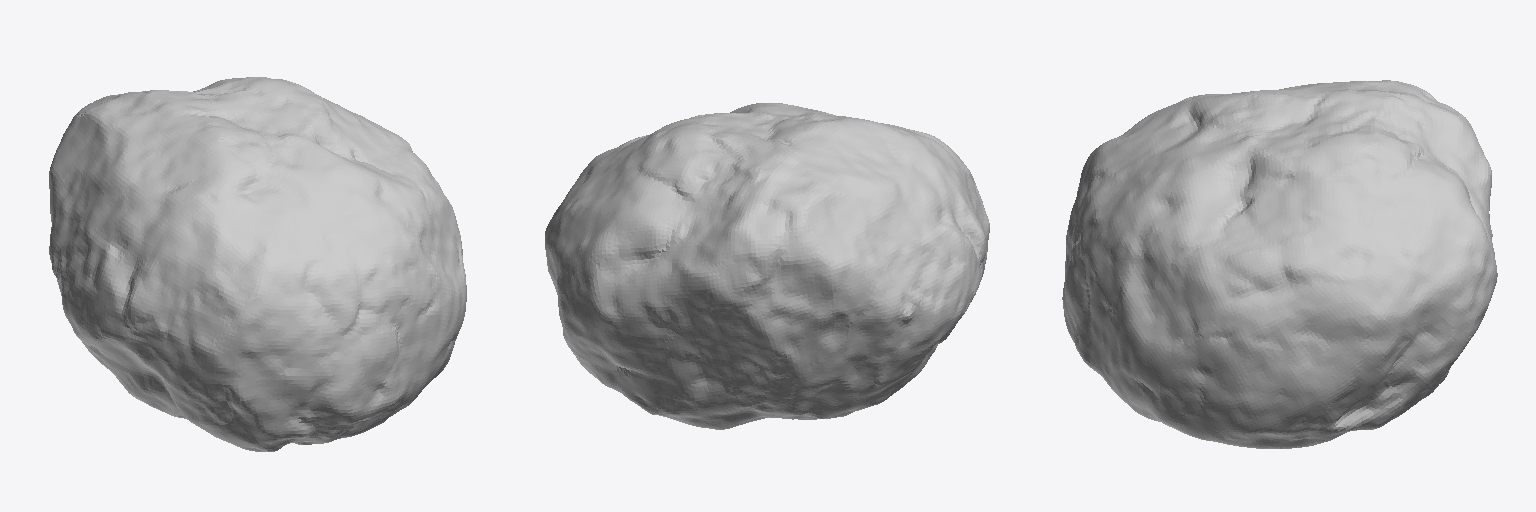
The model's file is rock1 gb rs.obj.
3 renders of one model, left to right at view 1: azimuth 30°, elevation 25°; view 2: azimuth 150°, elevation 25°; view 3: azimuth 270°, elevation 25°, orthographic.
Size of the model in its own units: 1.94 by 1.41 by 2.